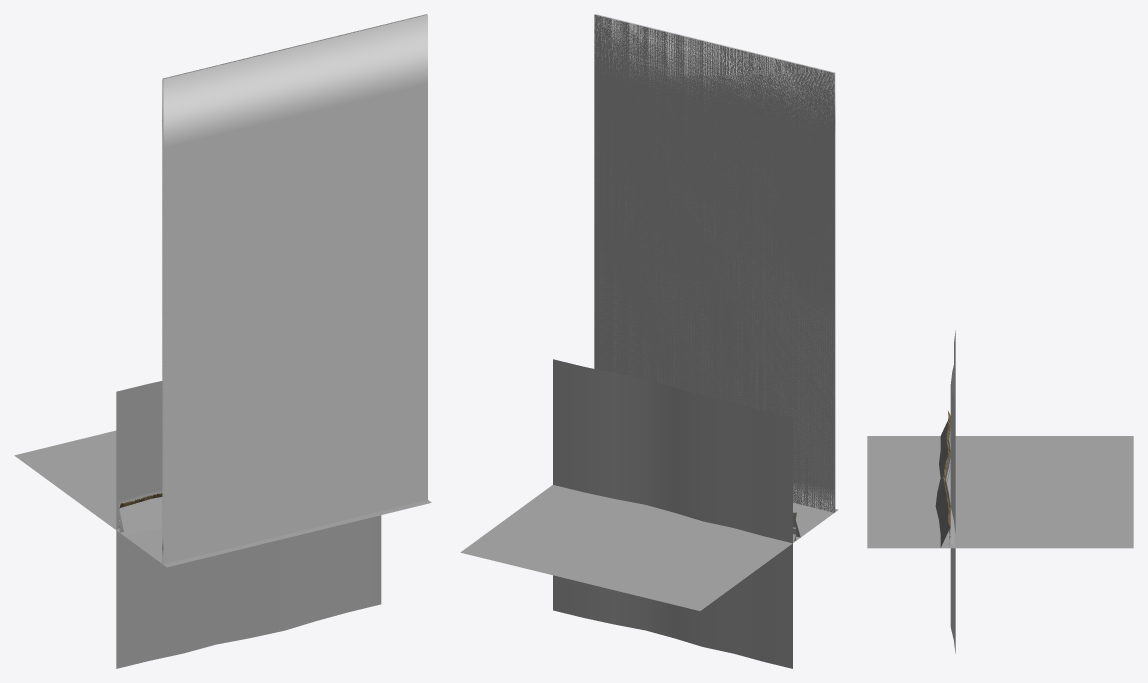
The model's file is roomwall1.fbx.
3 views of the same model, side by side, from view 1: azimuth 30°, elevation 25°; view 2: azimuth 150°, elevation 25°; view 3: azimuth 270°, elevation 25° (orthographic). The views are drawn at different scales.
Visible parts, largest first — view 1: mdl_LOD0, col_w, mdl2_LOD0, col_o; view 2: col_o, col_w, mdl_LOD0, mdl2_LOD0; view 3: col_o, col_w.
Boxes of the visible parts, x1,y1,x2,y2 form: mdl_LOD0: [162, 84, 427, 564]; col_w: [116, 381, 381, 668]; mdl2_LOD0: [119, 14, 427, 508]; col_o: [14, 14, 431, 567]; col_o: [460, 14, 838, 610]; col_w: [553, 359, 792, 668]; mdl_LOD0: [594, 84, 835, 511]; mdl2_LOD0: [594, 14, 835, 518]; col_o: [867, 416, 1133, 548]; col_w: [950, 330, 955, 653].
Size of what is drawn, in the model's own units: 1600 by 3600 by 1600.
